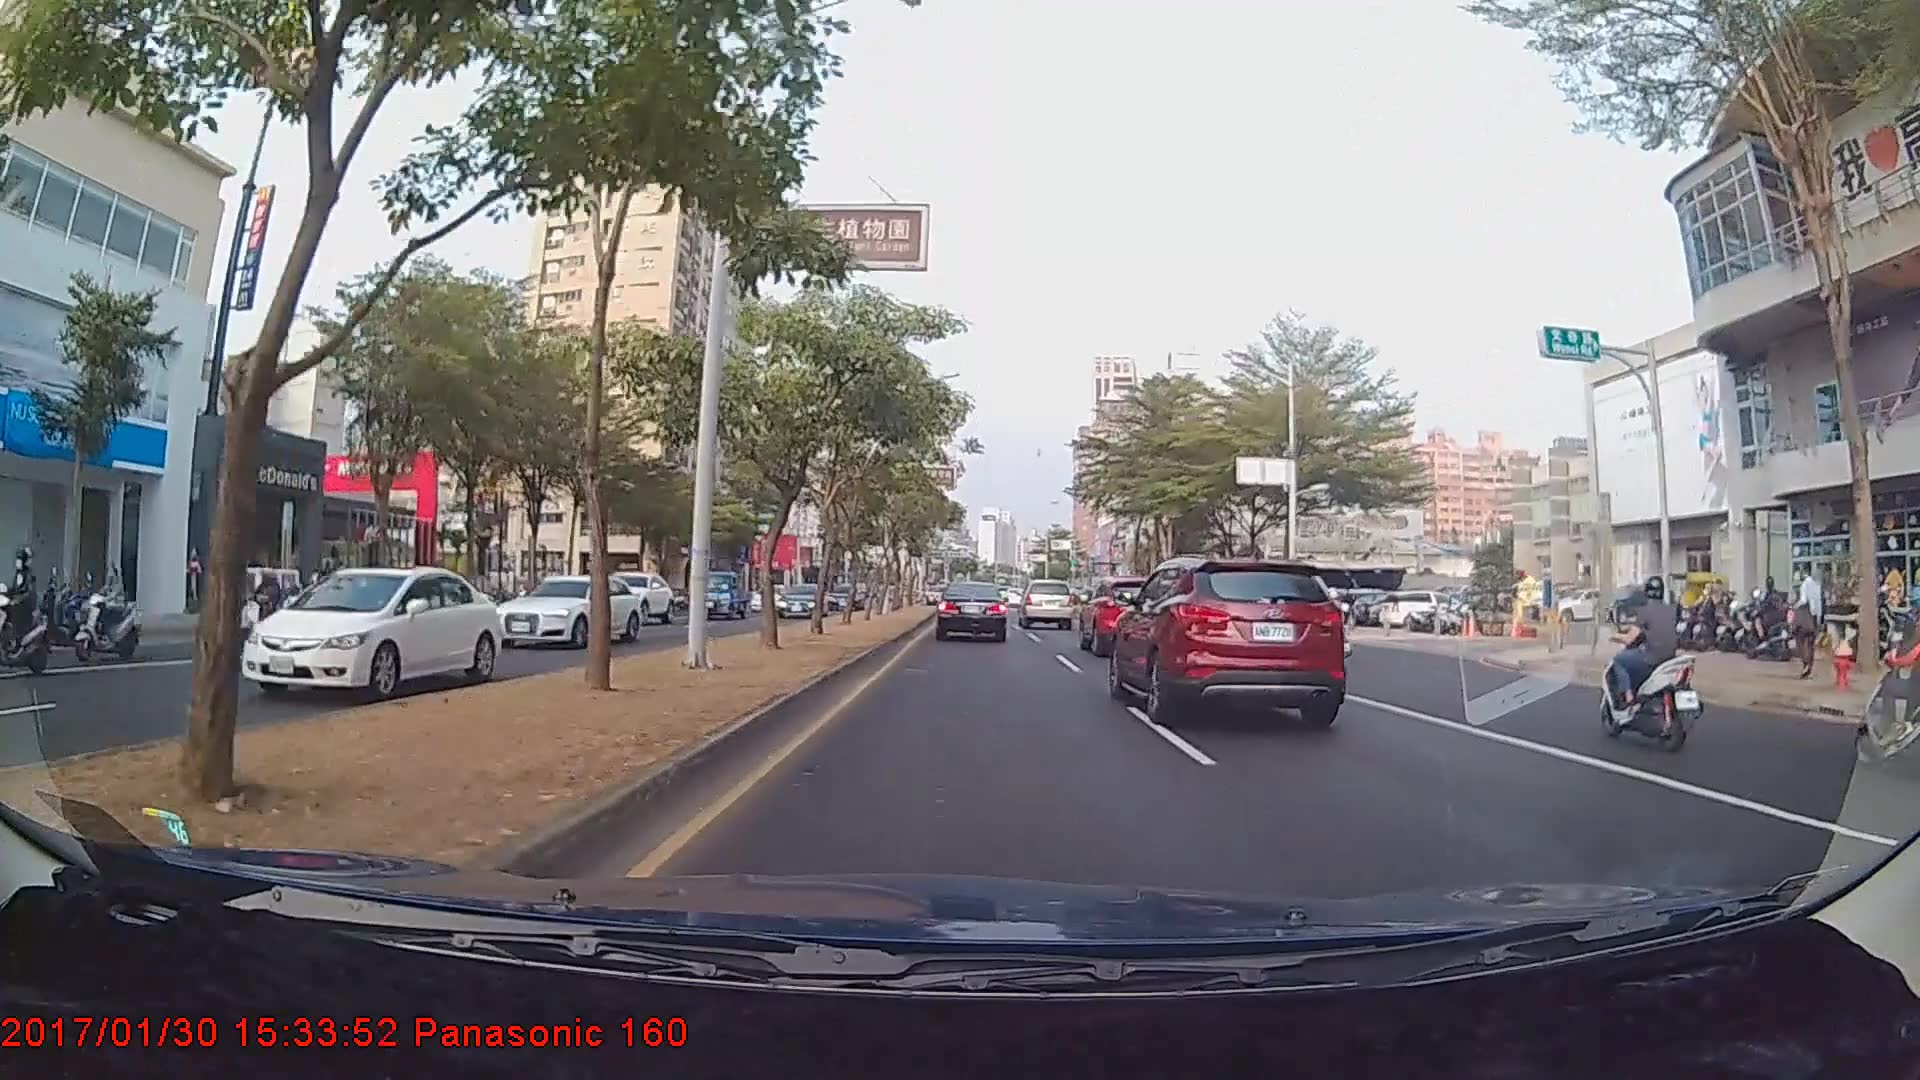pedestrian: (1794, 563, 1828, 677)
rider: (1585, 570, 1705, 753), (71, 561, 150, 662)
vehicle: (1111, 555, 1344, 719), (239, 560, 503, 703), (475, 575, 635, 651), (1077, 573, 1189, 655), (588, 571, 675, 626), (935, 580, 1008, 642), (1017, 578, 1078, 630), (691, 568, 749, 620), (776, 584, 826, 617)
